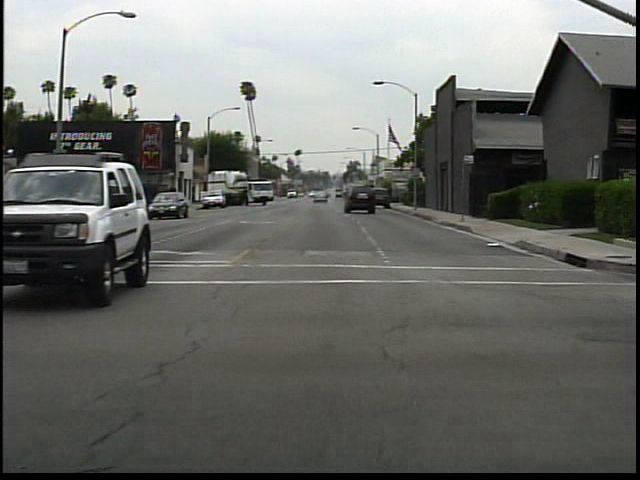person: (77, 181, 99, 221)
